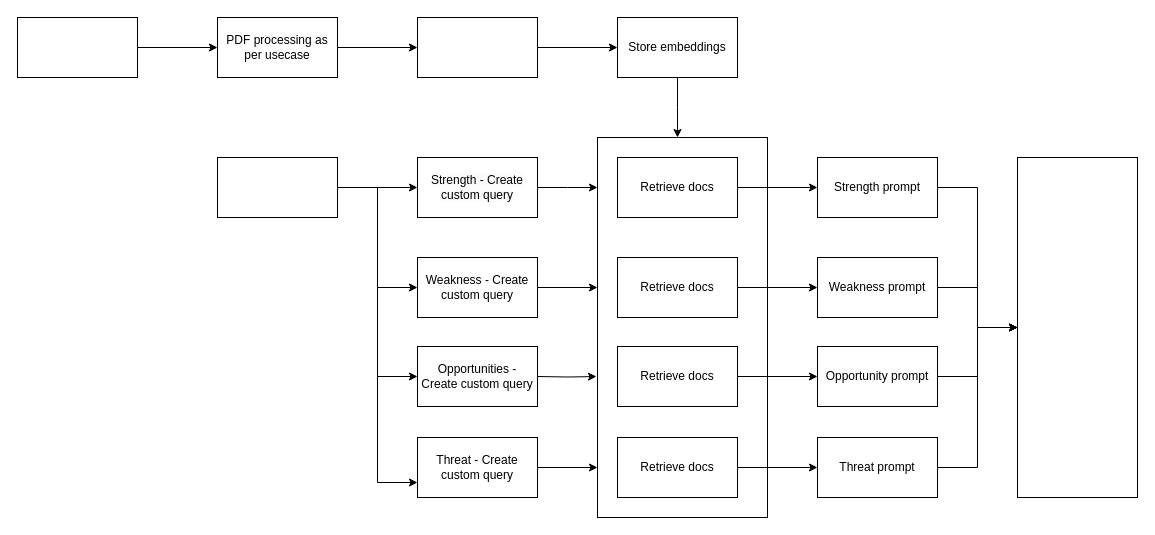
Image size: 1155x535. Some labels were removed from this diagram. The box of each missing label's shape, as (x1, y1, x2, y2) in pixels:
Chunking the docs: (416, 16, 538, 78)
PDF: (16, 16, 138, 78)
Summary: (1016, 156, 1138, 498)
SWOT - 2022: (216, 156, 338, 218)
